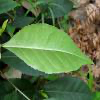Blueberry leaf: (3, 22, 98, 75)
